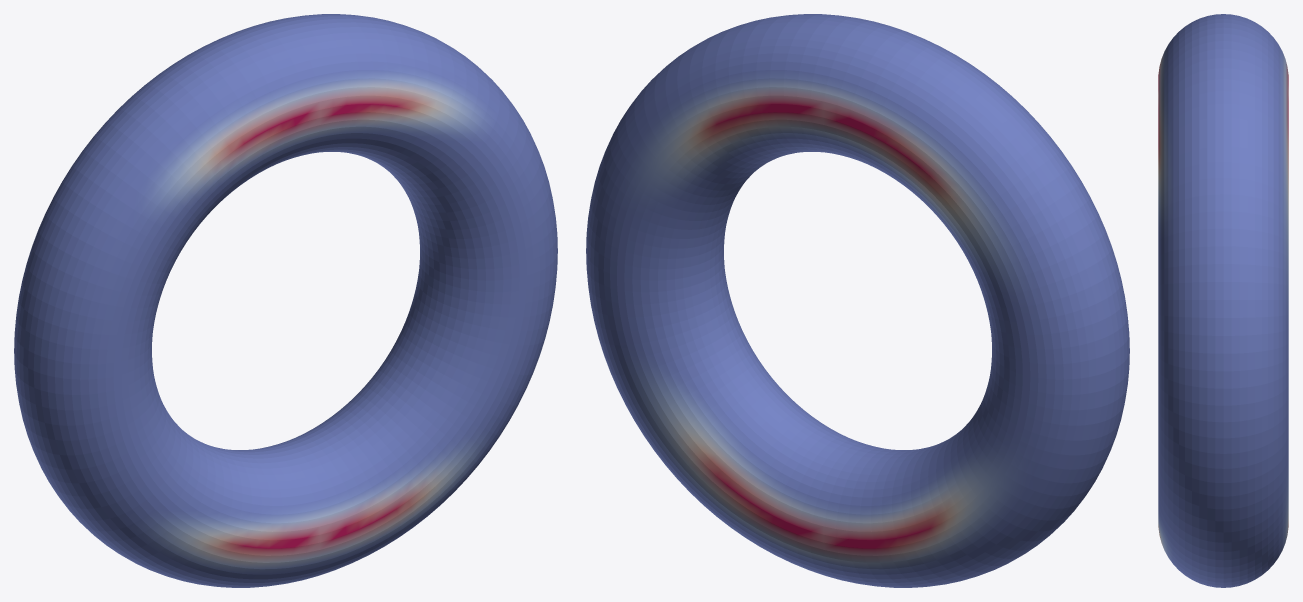
3 renders of one model, left to right at view 1: azimuth 30°, elevation 25°; view 2: azimuth 150°, elevation 25°; view 3: azimuth 270°, elevation 25°, orthographic. The views are drawn at different scales.
Parts seen in each view (by area): view 1: world; view 2: world; view 3: world.
Boxes of the visible parts, x1,y1,x2,y2 form: world: (14, 14, 557, 587); world: (586, 14, 1129, 587); world: (1158, 14, 1288, 587).
Bounding box in the file's own units: 14.67 × 14.67 × 3.33.
